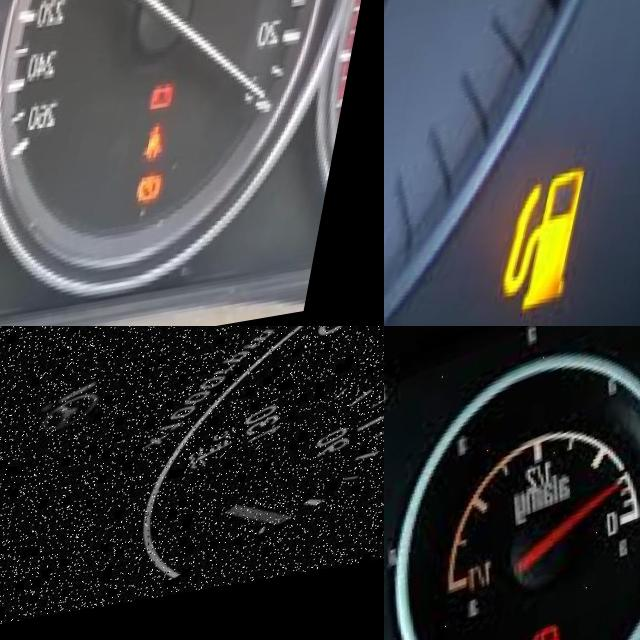Electronic Power Steering: (31, 369, 153, 466)
Seat Belt: (159, 135, 186, 177)
